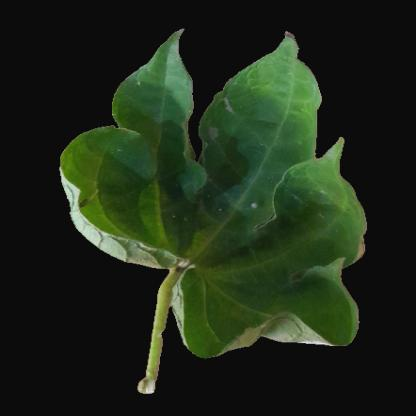curl_stage2: (147, 234, 331, 328), (69, 142, 253, 226), (252, 128, 340, 218)
healthy: (248, 65, 315, 122), (128, 76, 188, 134)
